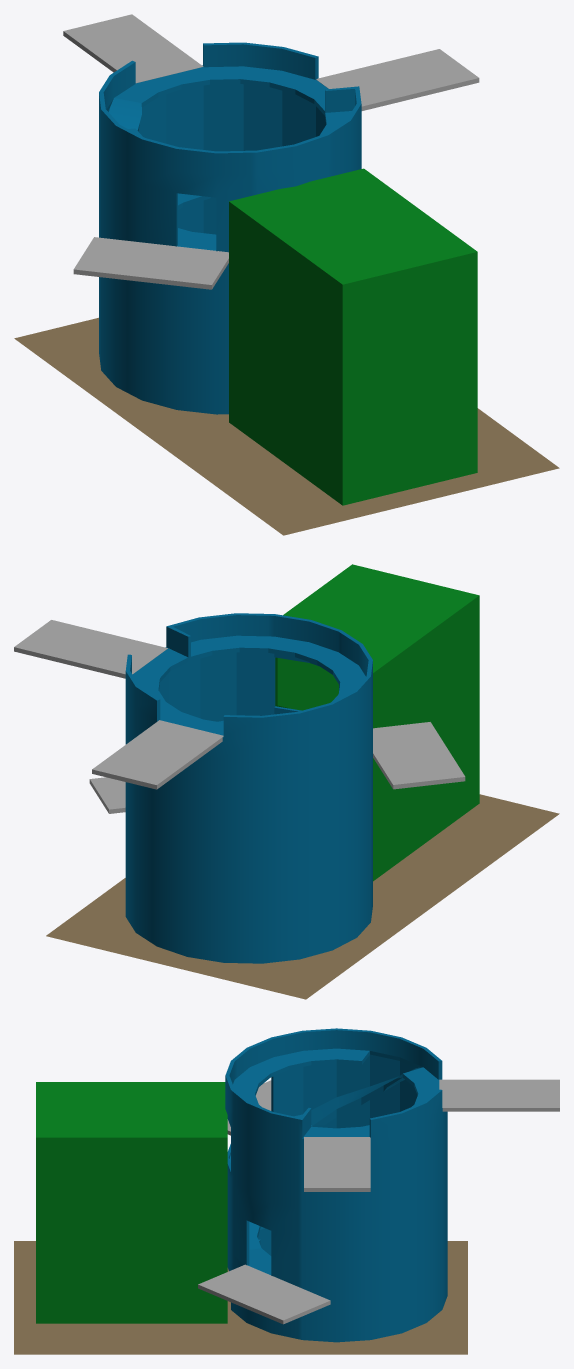
Rendered from model_leveldesign.fbx.
3 views of the same model, one above another, from view 1: azimuth 30°, elevation 25°; view 2: azimuth 150°, elevation 25°; view 3: azimuth 270°, elevation 25° (orthographic). The views are drawn at different scales.
Visible parts, largest first — view 1: pCube2, pCylinder1, pPlane1, pCube5, pCube3, pCube4; view 2: pCylinder1, pCube2, pPlane1, pCube4, pCube3, pCube5, pCube6; view 3: pCylinder1, pCube2, pPlane1, pCube6, pCube4, pCube3, pCube5.
Part boxes in pixels (bbox=[...]): pCube2: bbox=[229, 168, 477, 505]; pCylinder1: bbox=[99, 42, 361, 414]; pPlane1: bbox=[14, 317, 559, 535]; pCube5: bbox=[73, 237, 228, 289]; pCube3: bbox=[316, 49, 479, 110]; pCube4: bbox=[63, 14, 203, 83]; pCylinder1: bbox=[125, 613, 372, 963]; pCube2: bbox=[275, 564, 479, 881]; pPlane1: bbox=[46, 794, 559, 999]; pCube4: bbox=[92, 720, 223, 789]; pCube3: bbox=[14, 620, 167, 678]; pCube5: bbox=[373, 722, 465, 789]; pCube6: bbox=[89, 777, 125, 813]; pCylinder1: bbox=[225, 1028, 447, 1342]; pCube2: bbox=[36, 1082, 227, 1323]; pPlane1: bbox=[14, 1241, 467, 1354]; pCube6: bbox=[198, 1264, 330, 1324]; pCube4: bbox=[439, 1079, 559, 1111]; pCube3: bbox=[304, 1137, 370, 1191]; pCube5: bbox=[227, 1080, 271, 1135].
Size of the model in its own units: 2783 by 1660 by 3696.
